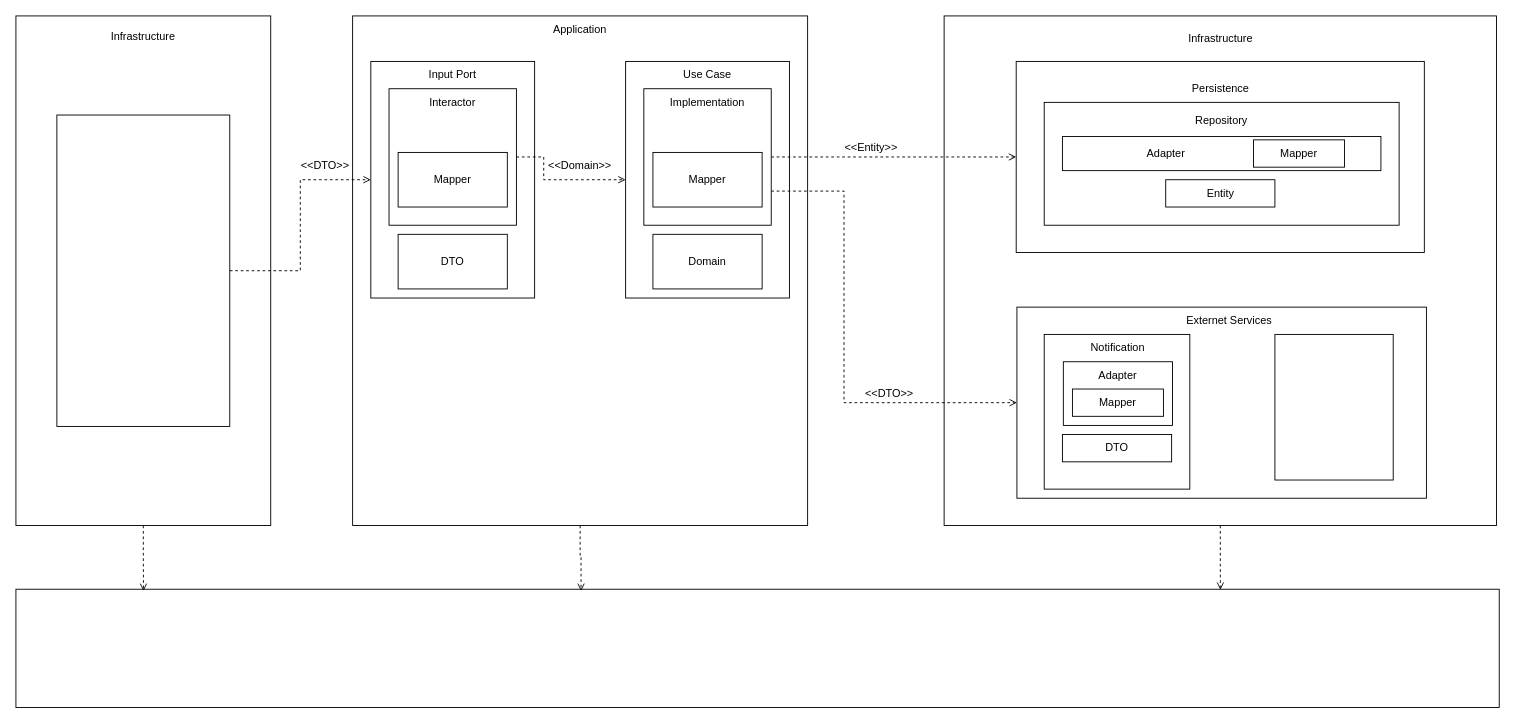
Image size: 1515x723. Some labels were removed from this diagram. The shapes that lost their labels are listed below. From the top down, each one's centre as x and y in pixels, then its label:
(143,270): Controller
(1333,407): Payment
(757,648): Cross Cuting
